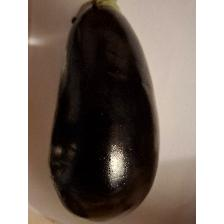Aubergine: (46, 0, 160, 224)
